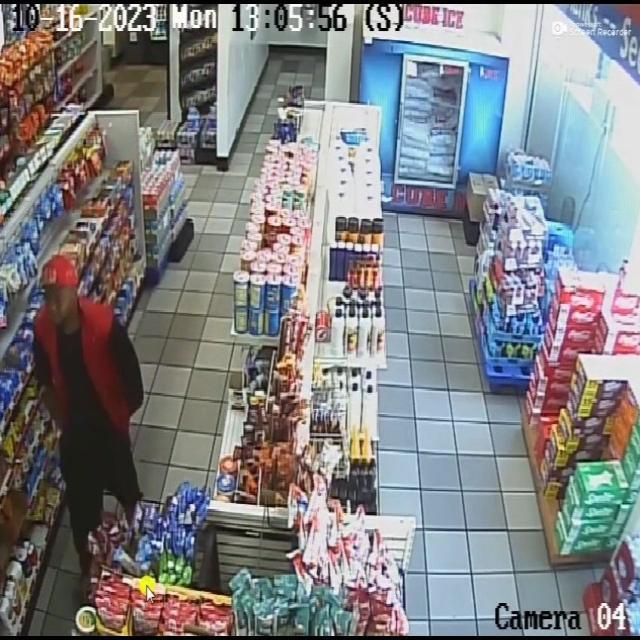Normal: (33, 249, 149, 531)
